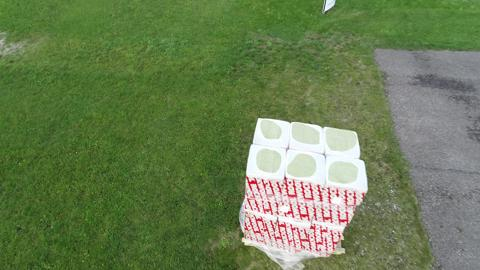RockwoolPallet: (242, 118, 370, 258)
